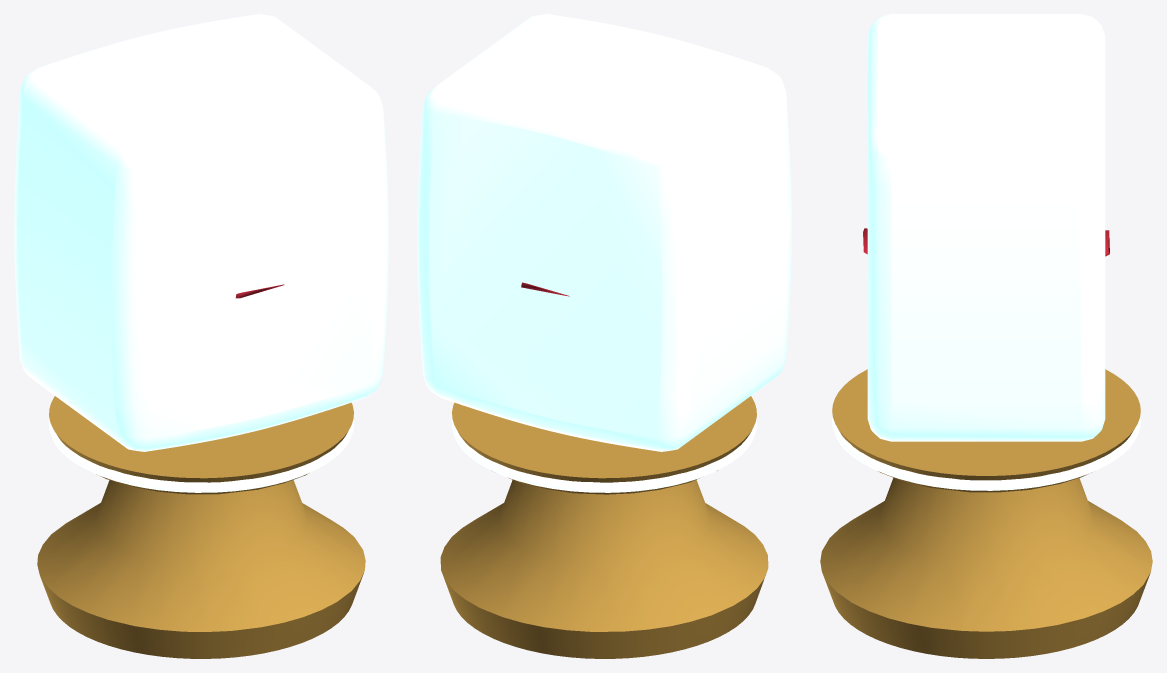
The model's file is doa-hong-ngu-trong-bang.glb.
The picture shows the model from 3 angles, left to right: view 1: azimuth 30°, elevation 25°; view 2: azimuth 150°, elevation 25°; view 3: azimuth 270°, elevation 25°; orthographic projection.
Visible parts, largest first — view 1: ice, base, base_band; view 2: ice, base, base_band; view 3: ice, base, base_band.
Part boxes in pixels (left/top/right/bottom): ice: left=14, top=14, right=388, bottom=451; base: left=37, top=396, right=365, bottom=658; base_band: left=49, top=419, right=353, bottom=492; ice: left=417, top=14, right=791, bottom=451; base: left=440, top=396, right=768, bottom=658; base_band: left=452, top=419, right=756, bottom=492; ice: left=867, top=14, right=1105, bottom=441; base: left=820, top=369, right=1152, bottom=658; base_band: left=832, top=417, right=1140, bottom=490.
Size of the model in its own units: 0.28 by 0.503 by 0.28.
